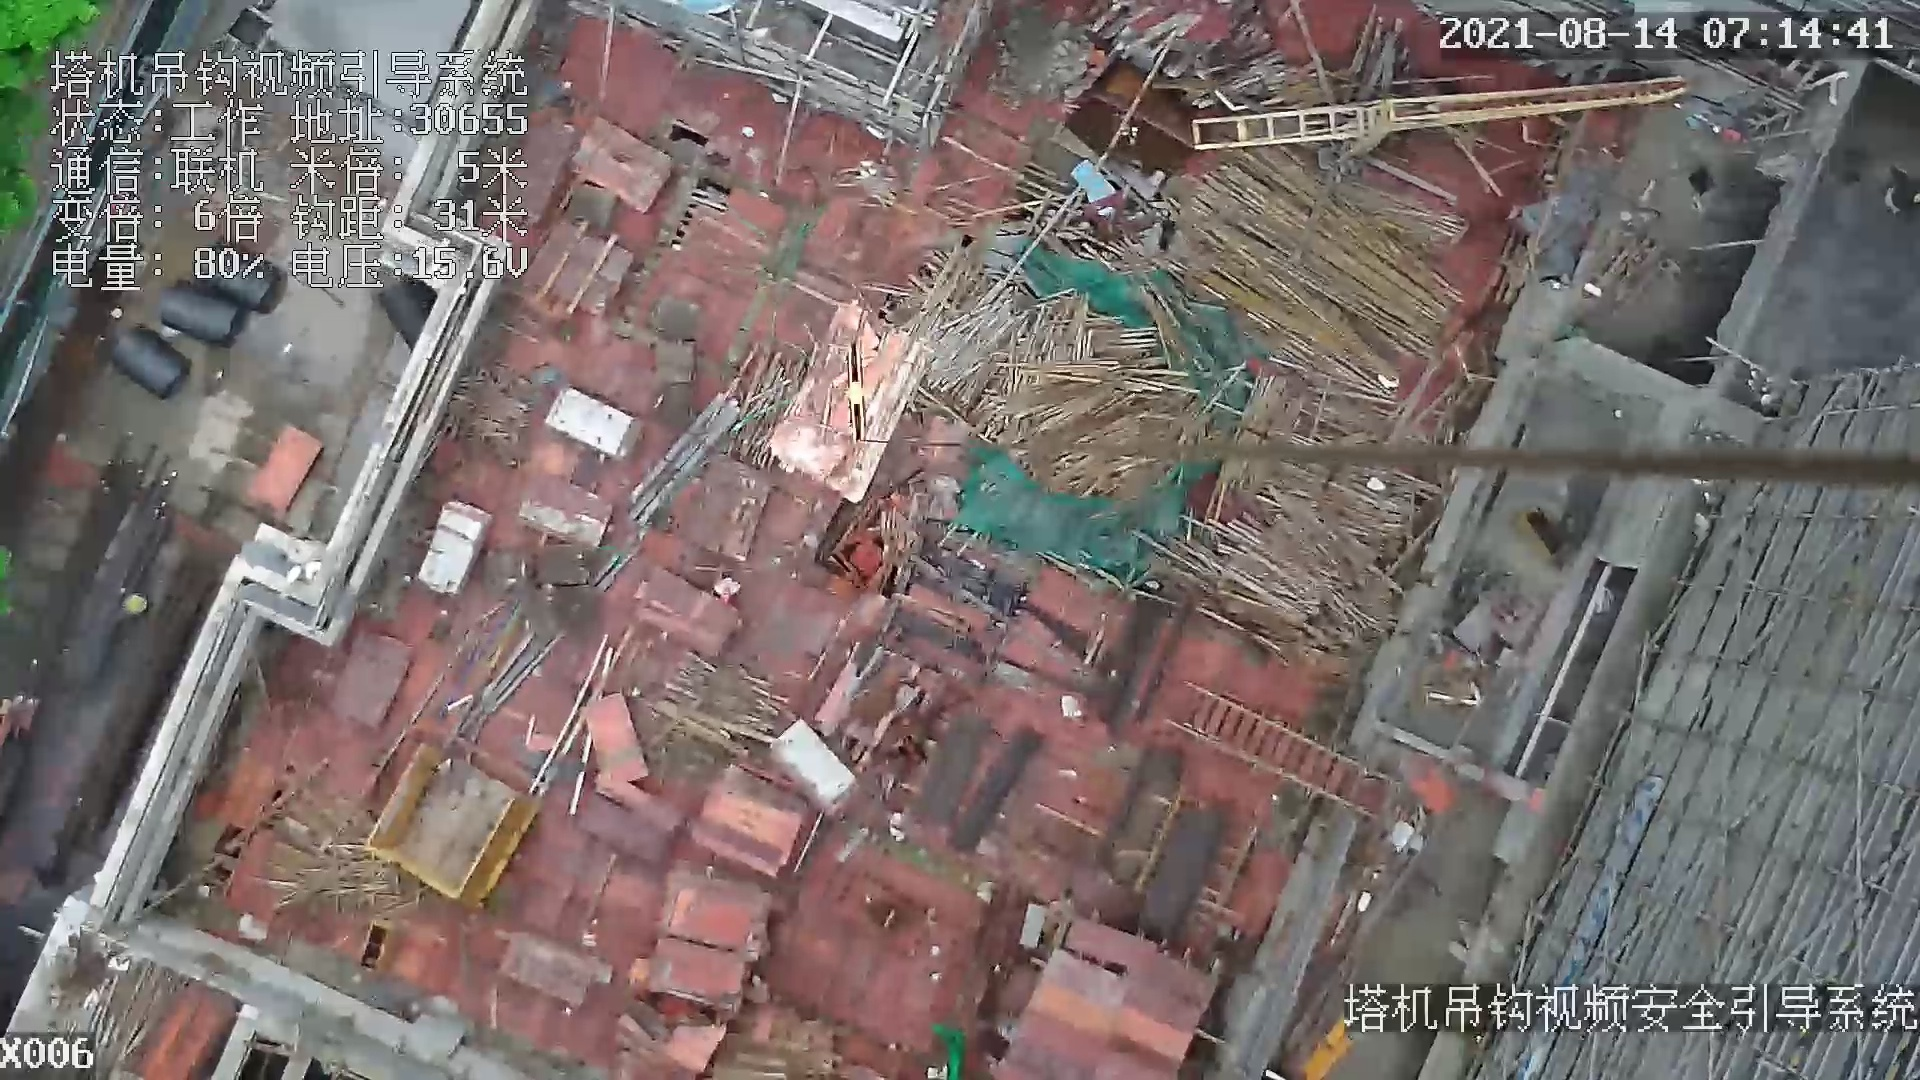hook: (841, 342, 873, 447)
